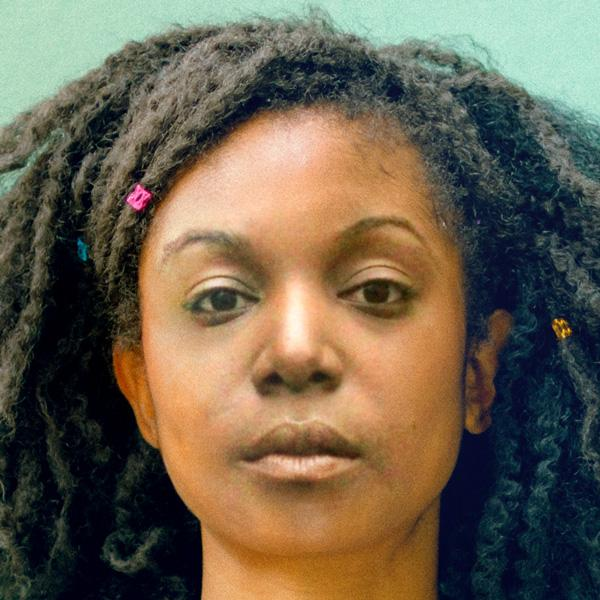Eyes: (327, 252, 423, 332), (176, 265, 266, 339)
